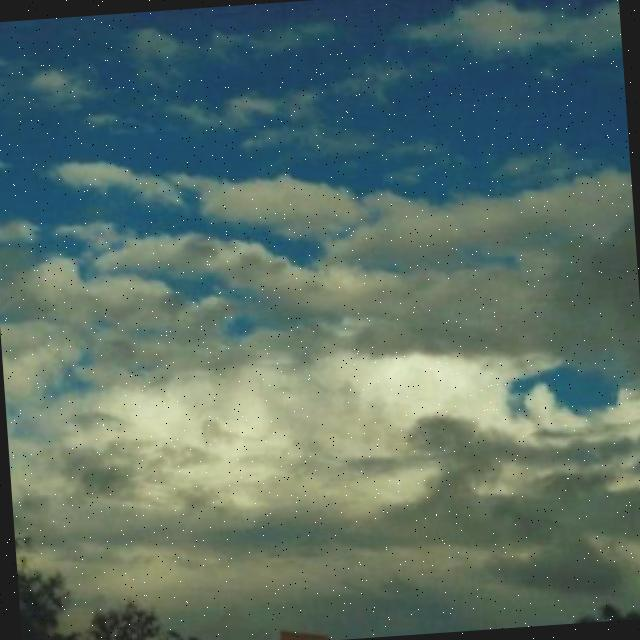Sc: (1, 46, 640, 482)
